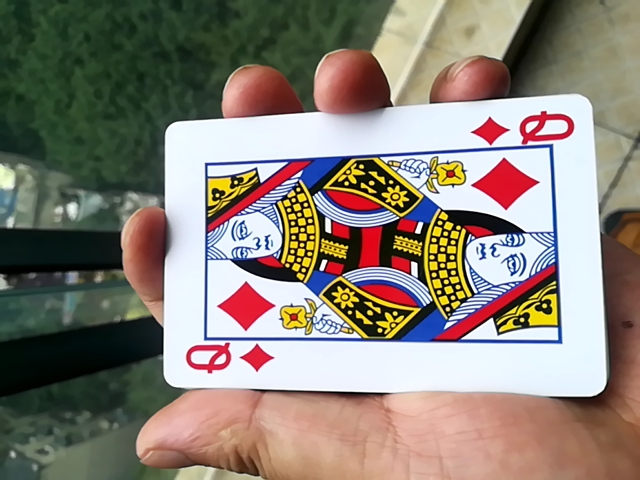fk q: (133, 108, 600, 406)
